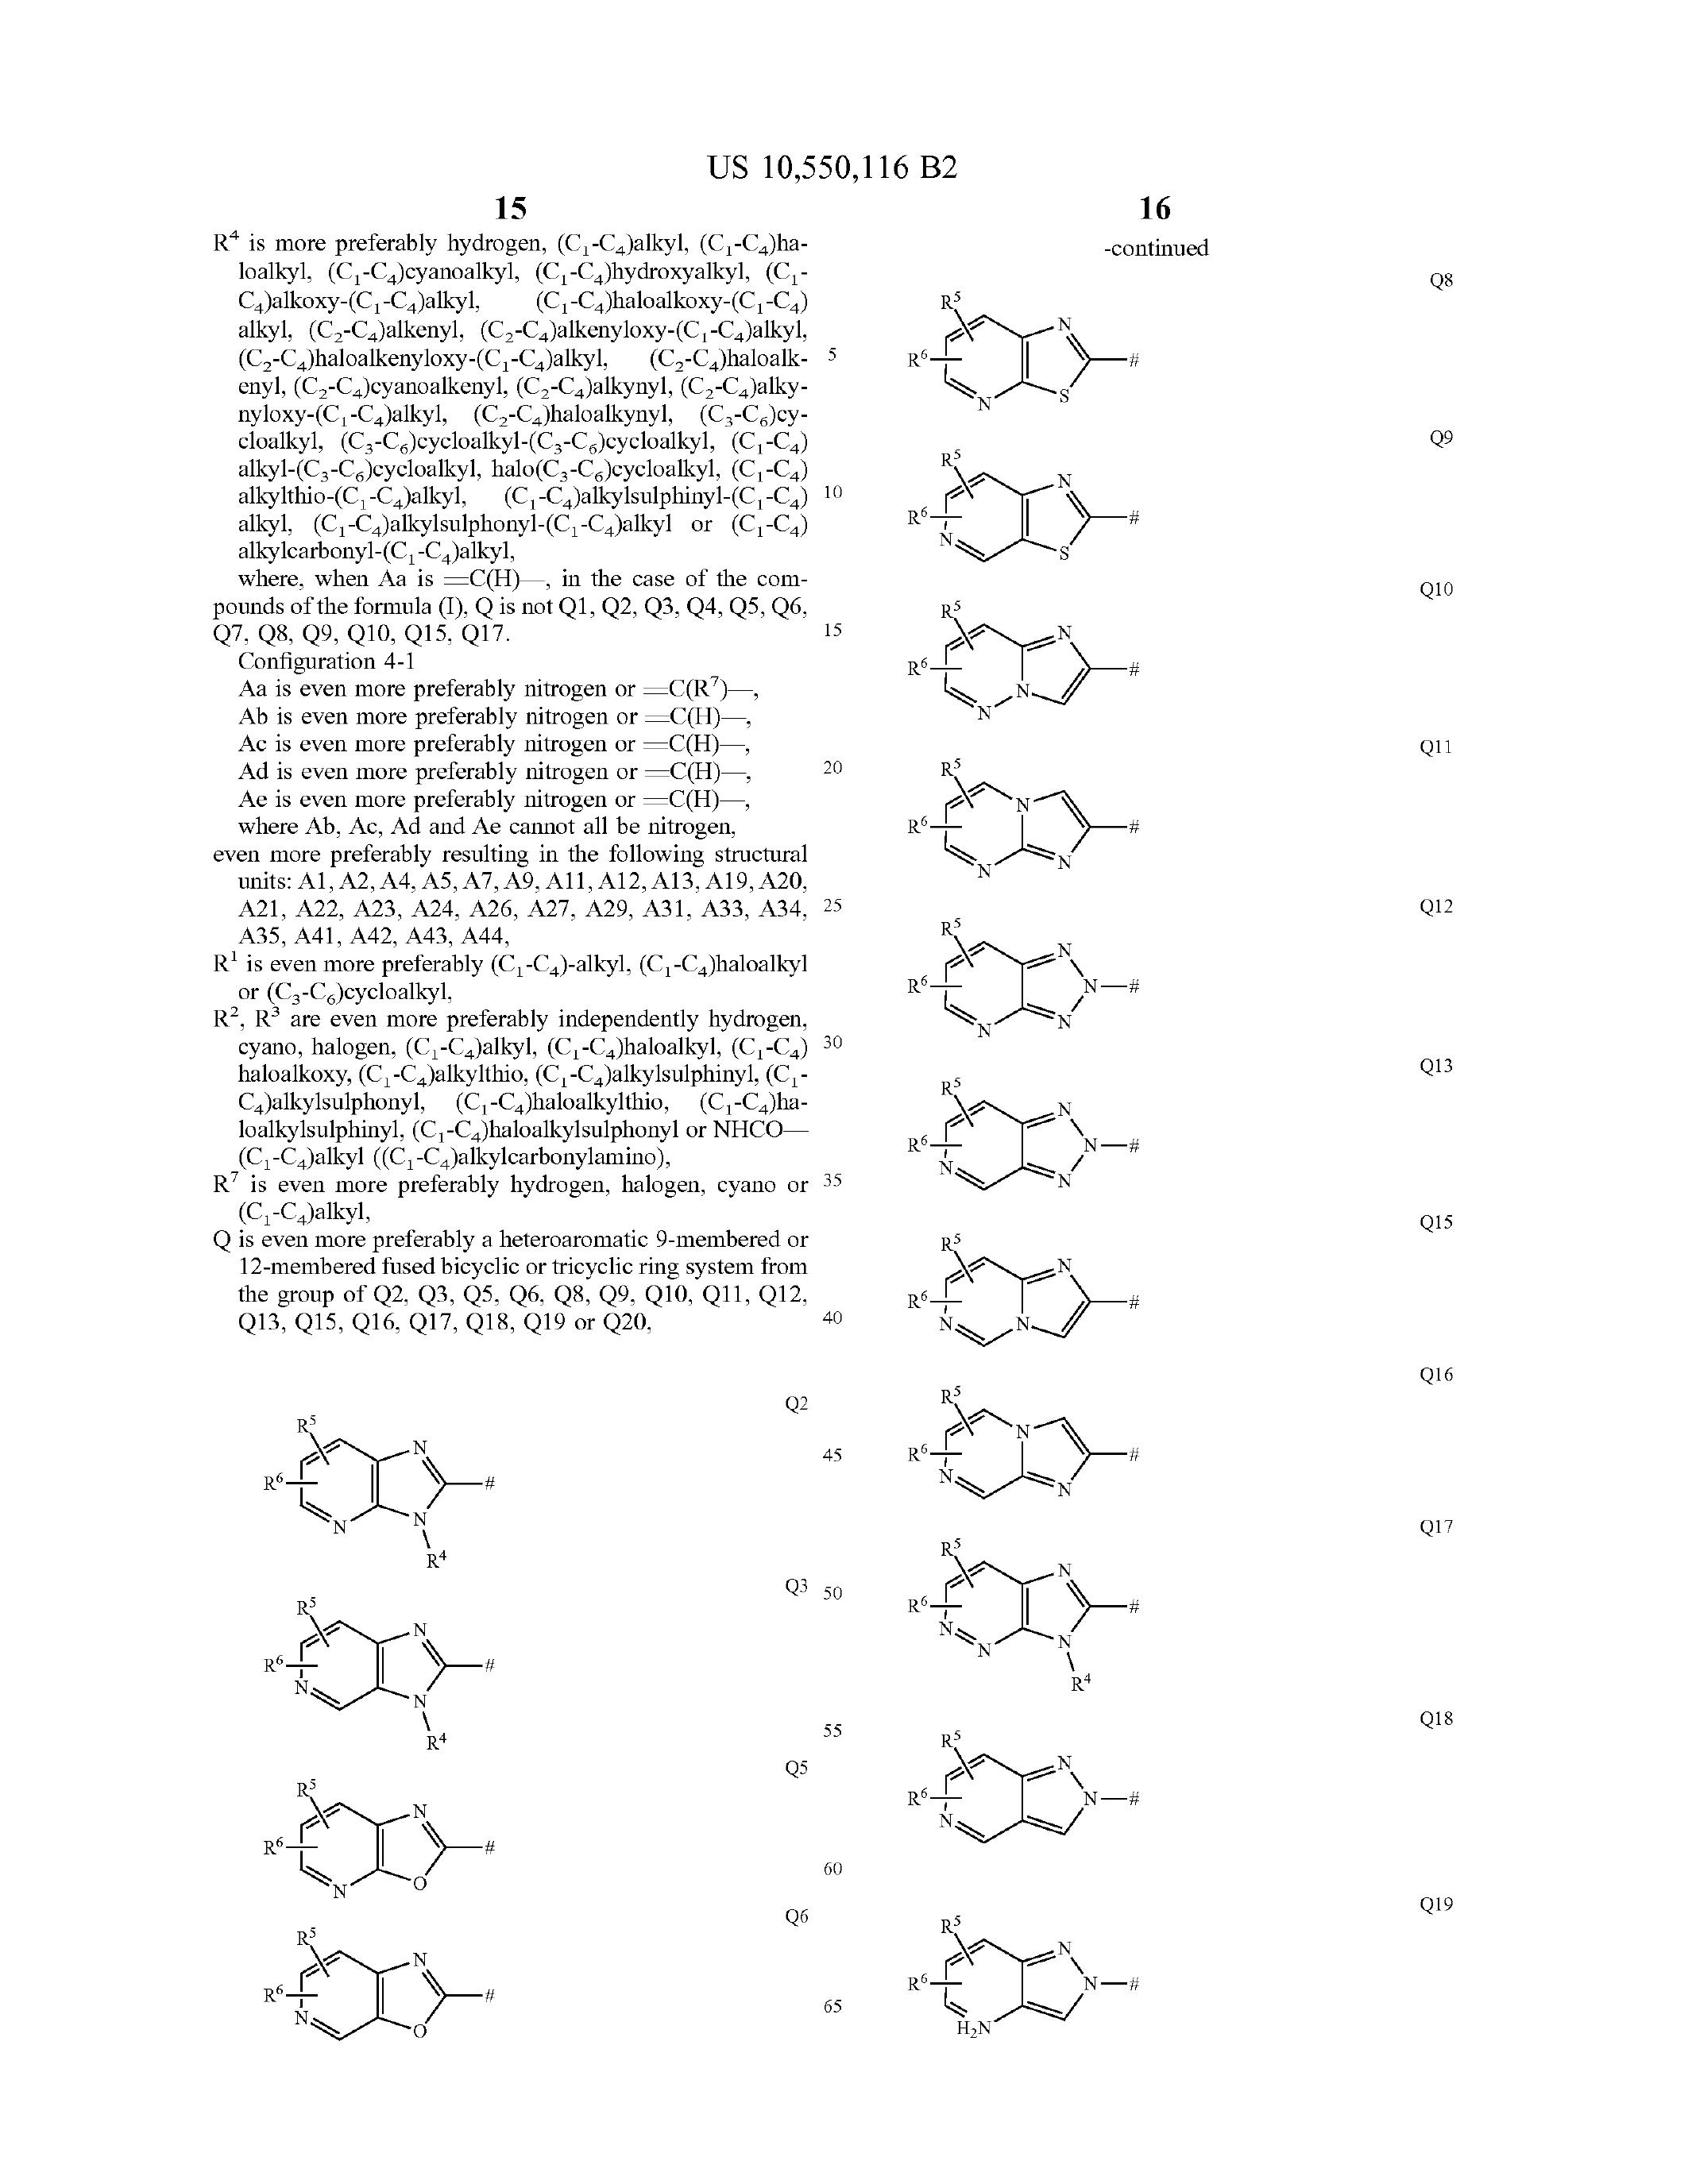markush-structures: (183, 1374, 548, 1581), (213, 1594, 541, 1767), (887, 1899, 1142, 2095), (199, 1776, 527, 1927), (903, 1695, 1153, 1886), (245, 1932, 504, 2115), (894, 248, 1137, 440), (892, 562, 1154, 732), (883, 1042, 1138, 1213), (899, 885, 1153, 1053), (899, 1517, 1142, 1688), (894, 1361, 1133, 1530), (897, 721, 1138, 886), (899, 1216, 1124, 1376), (904, 427, 1128, 558)
